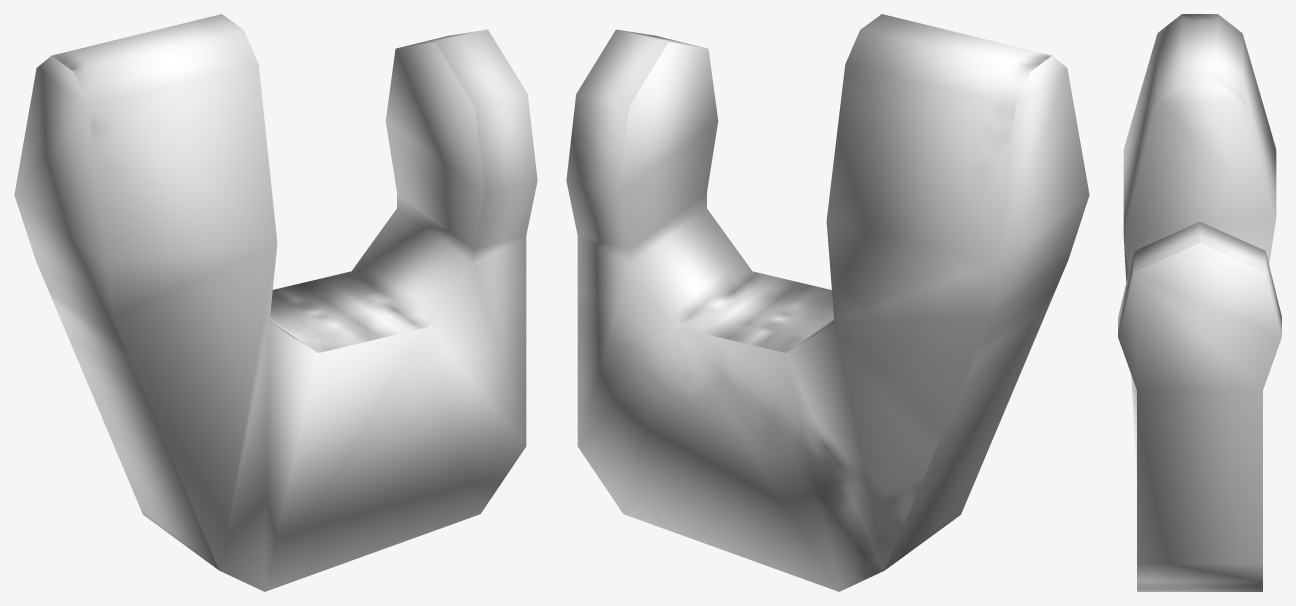
File: mtorso.dae
3 views of the same model, side by side, from view 1: azimuth 30°, elevation 25°; view 2: azimuth 150°, elevation 25°; view 3: azimuth 270°, elevation 25° (orthographic). The views are drawn at different scales.
Parts seen in each view (by area): view 1: mtorso; view 2: mtorso; view 3: mtorso.
Boxes of the visible parts, <box> form: mtorso: <box>14,14,537,591</box>; mtorso: <box>566,14,1089,591</box>; mtorso: <box>1118,14,1281,591</box>.
Size of the model in its own units: 0.0837 by 0.0337 by 0.1012.
